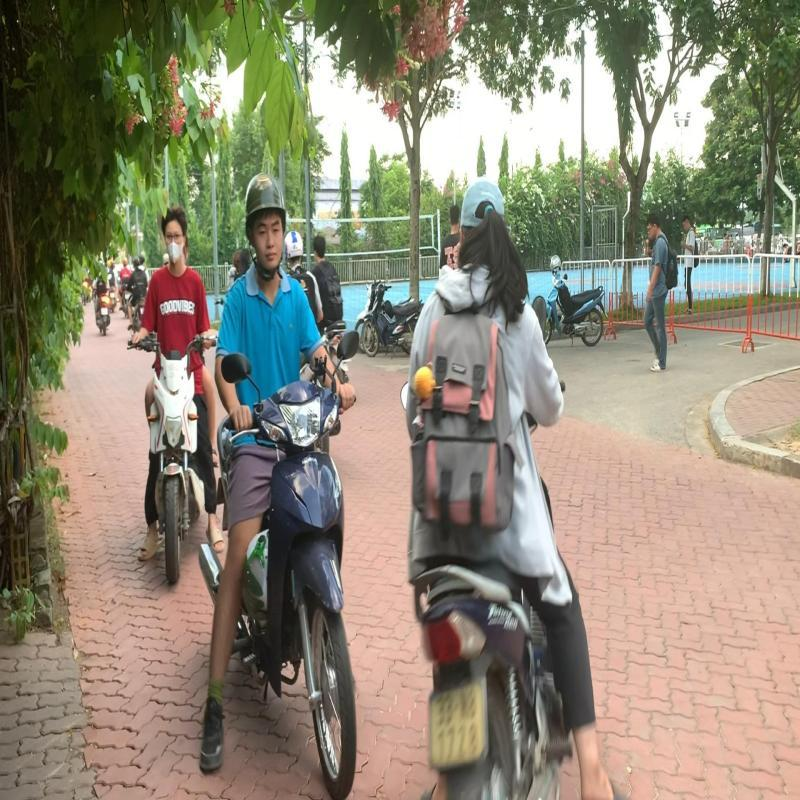nohelmet: (455, 172, 516, 270), (313, 232, 327, 260)
